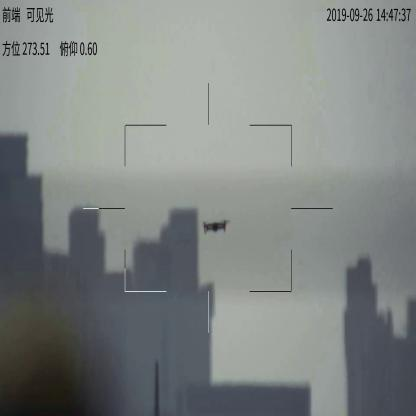uav: (198, 216, 231, 235)
